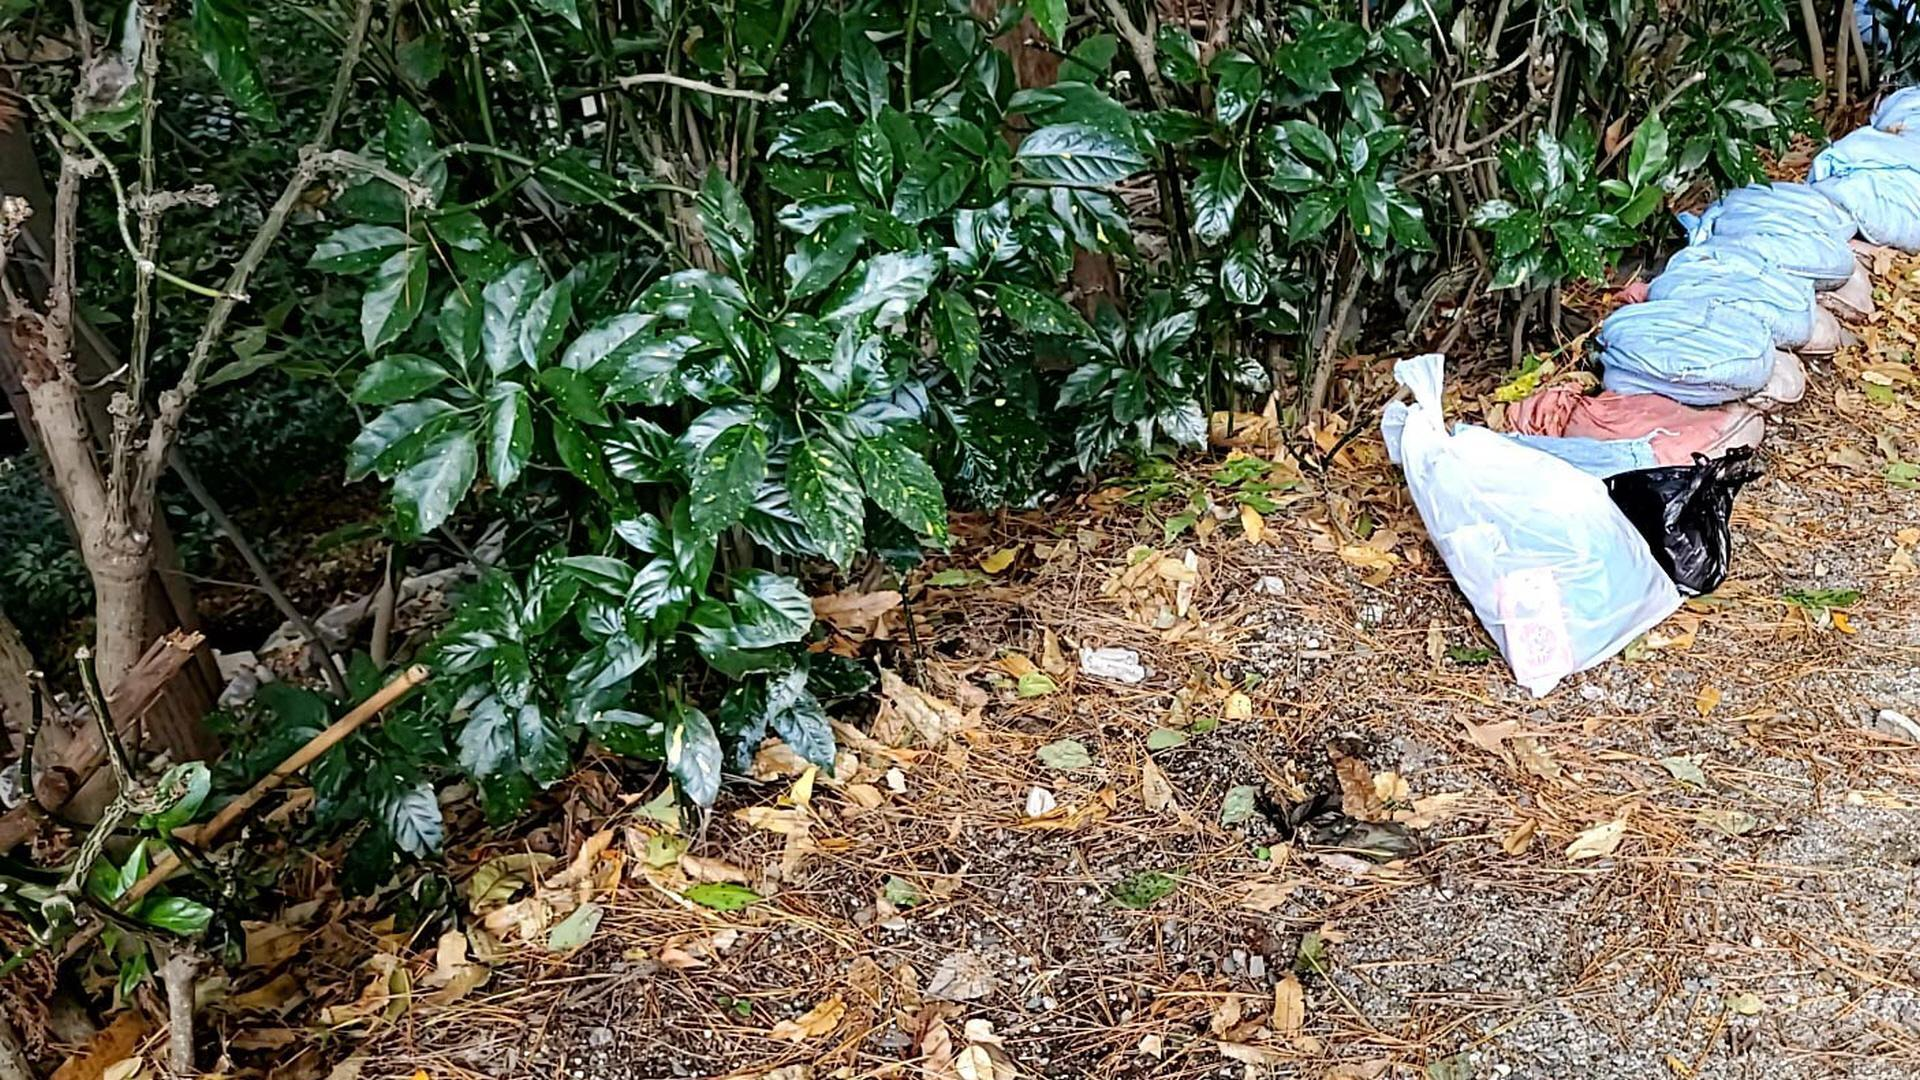black_bag: (1586, 436, 1768, 613)
white_bag: (1375, 328, 1697, 702)
